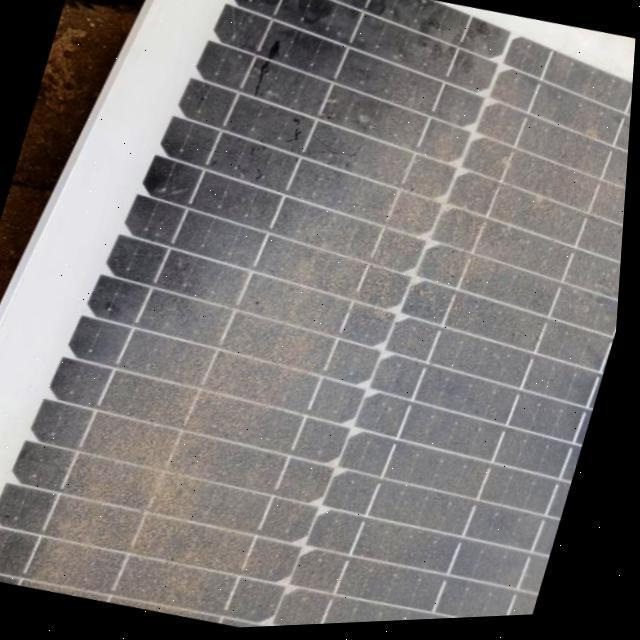Surface Contaminant: (43, 0, 635, 629)
